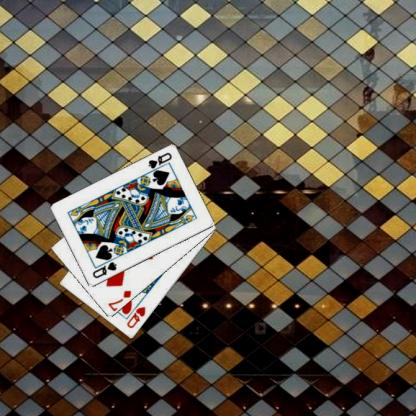7D: (105, 288, 133, 312)
QH: (124, 304, 147, 330)
QS: (89, 260, 118, 280), (146, 150, 174, 170)
